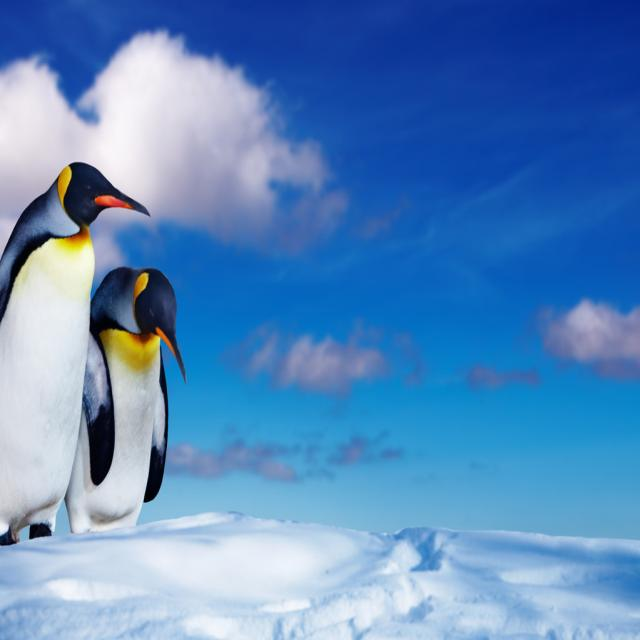Penguins: (0, 134, 123, 549), (61, 253, 186, 544)
